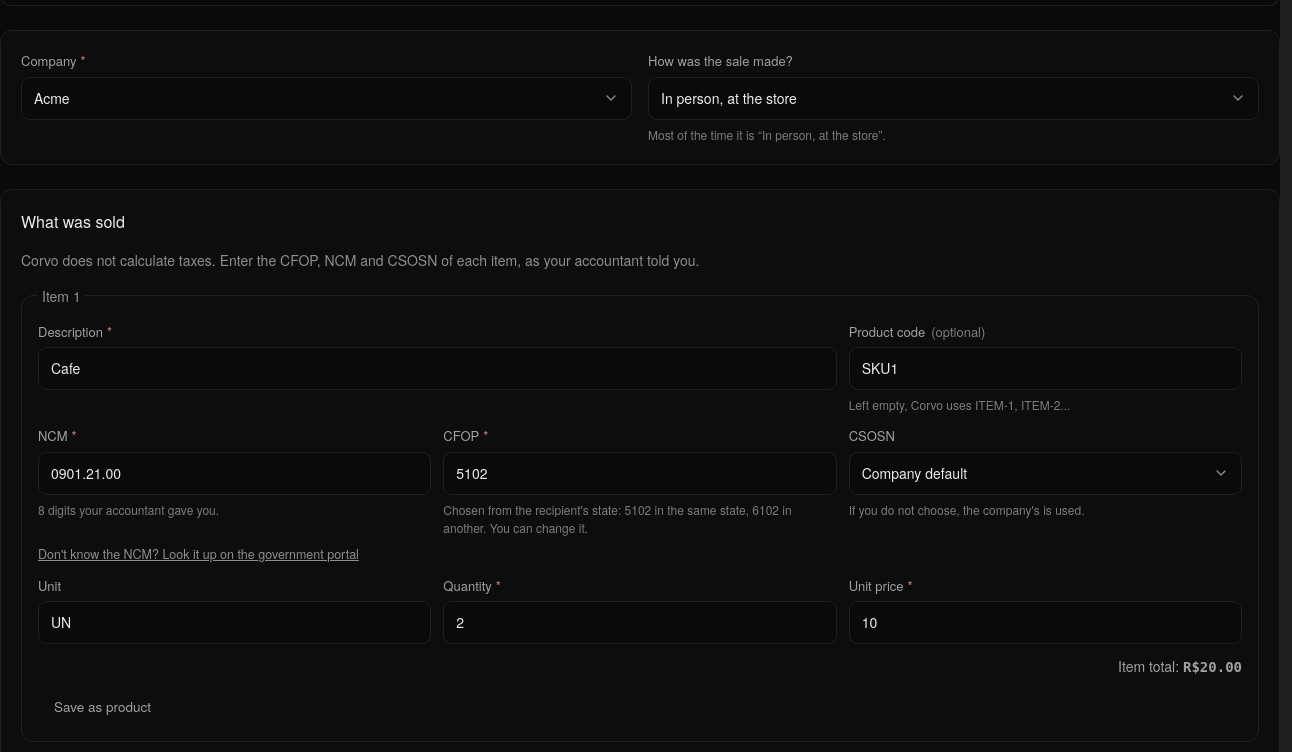
NfceForm › delivery sale without address stops before sending and marks the fields
This screenshot has width=1292, height=752.
Step 1. Select "Home delivery" in the dropdown labelled "How was the sale made?" → (954, 98), box left=648, top=77, right=1259, bottom=120
(page scrolled)
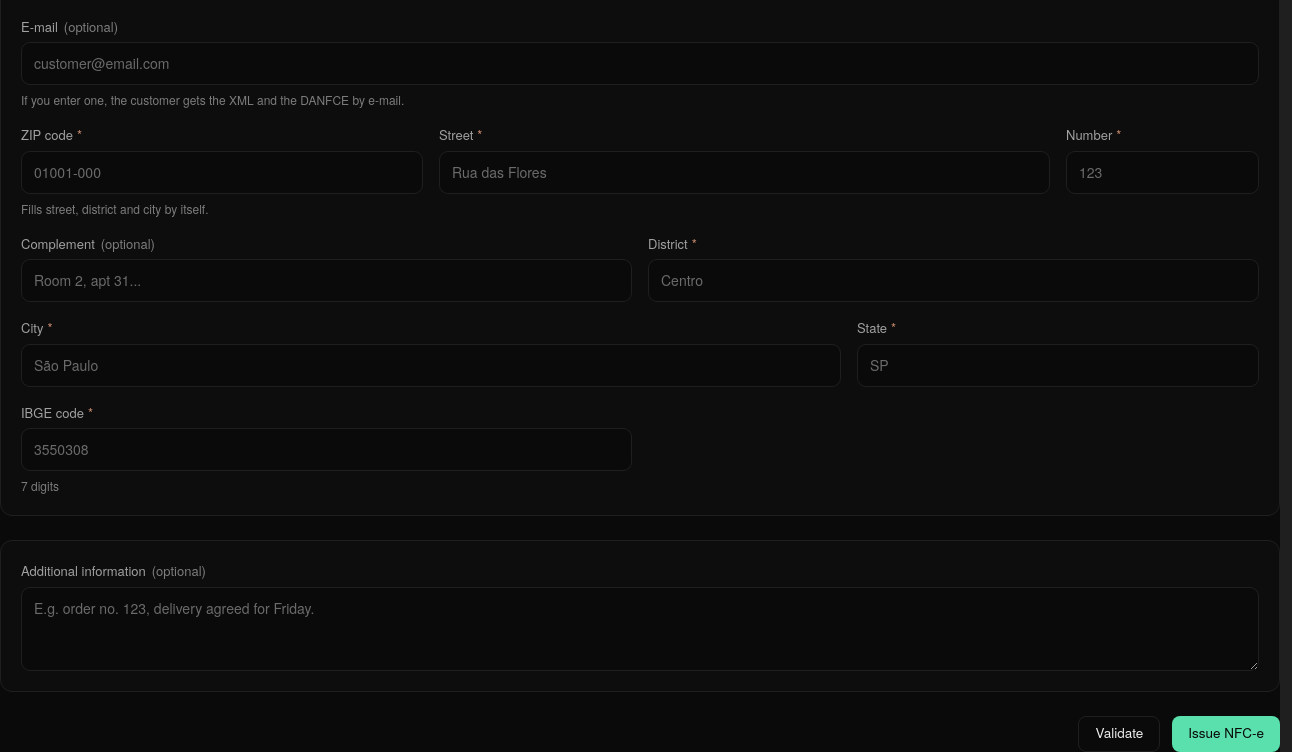
Step 2. Click the button "Issue NFC-e" → (1226, 734), box left=1172, top=716, right=1280, bottom=751
(page scrolled)
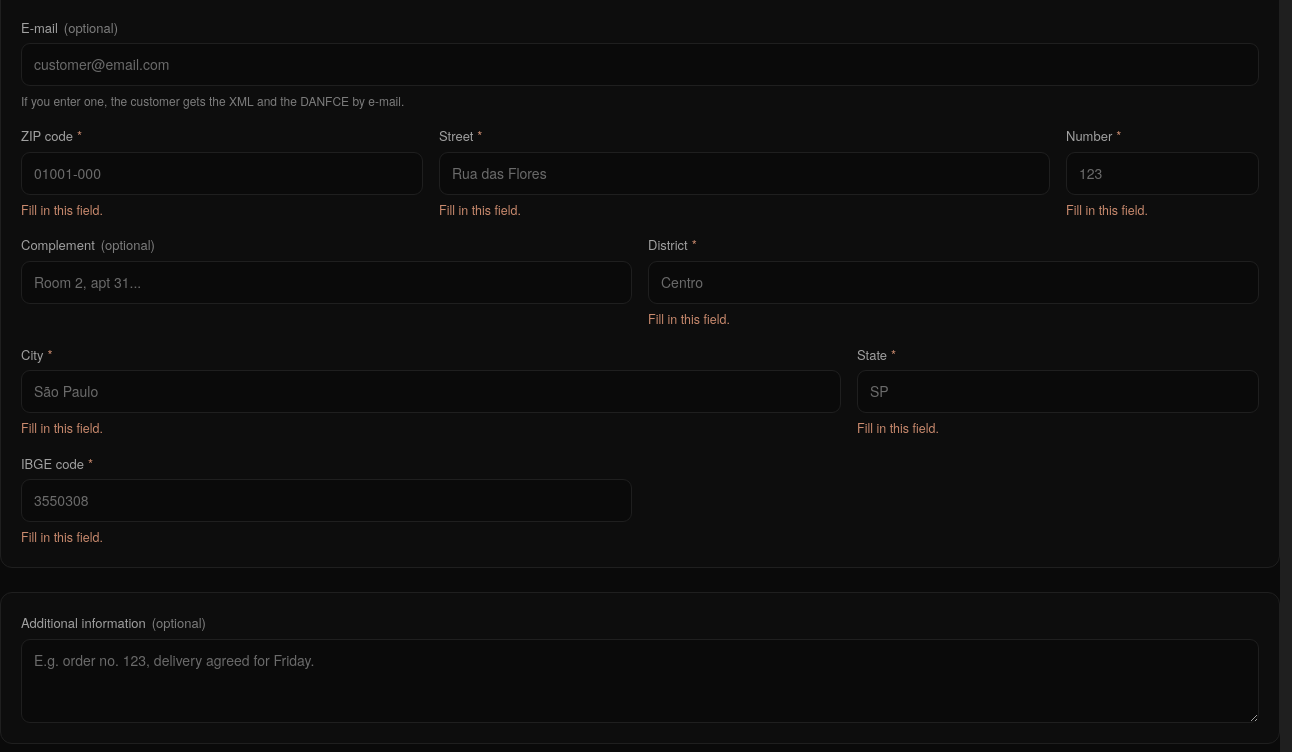
Now the field labelled "Street*" is marked as invalid, box left=439, top=152, right=1050, bottom=194
